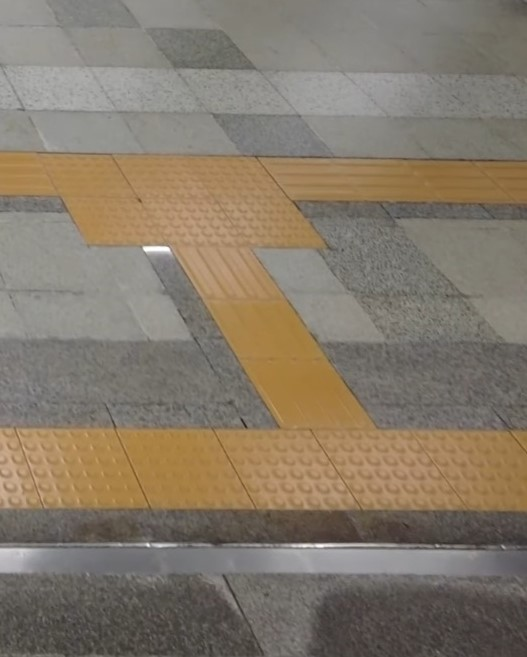guideBlock: (246, 360, 362, 433), (207, 296, 310, 361), (173, 247, 270, 307), (265, 152, 369, 198)
warningBlock: (126, 421, 245, 511), (14, 428, 135, 513), (323, 432, 464, 498), (424, 430, 527, 509), (211, 436, 333, 495), (70, 194, 160, 244), (230, 196, 327, 242), (141, 194, 233, 242), (48, 154, 144, 199), (120, 146, 203, 197), (194, 153, 279, 189)
